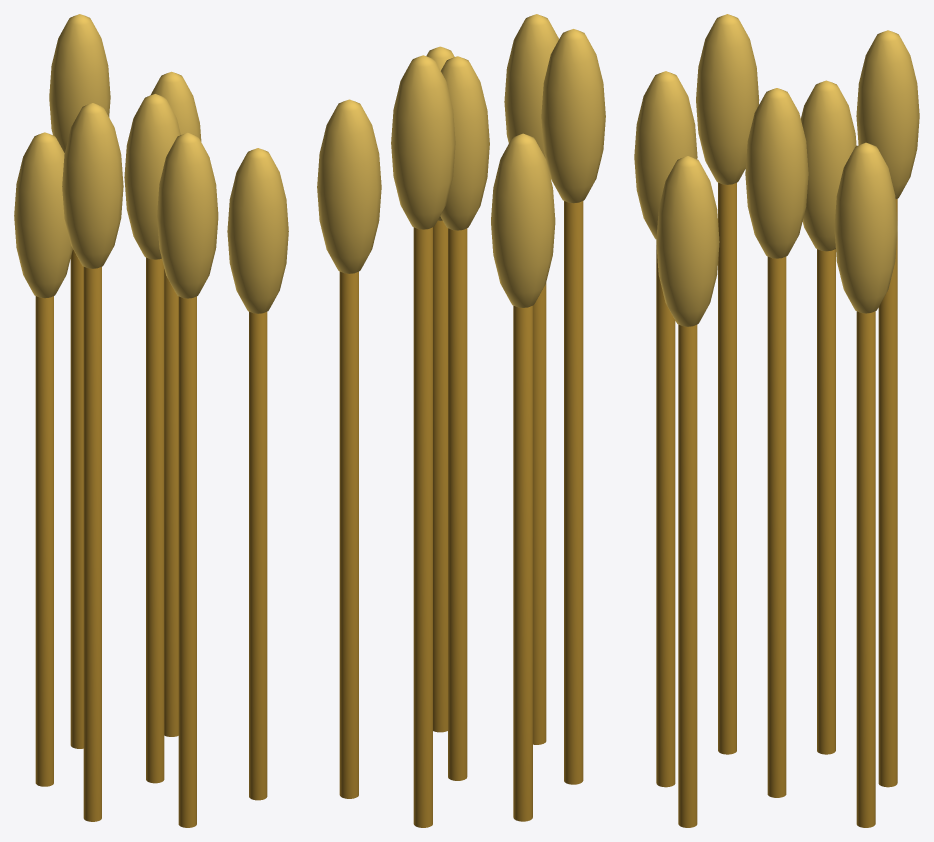
The model's file is wheat.glb.
3 views of the same model, side by side, from view 1: azimuth 30°, elevation 25°; view 2: azimuth 150°, elevation 25°; view 3: azimuth 270°, elevation 25° (orthographic). The views are drawn at different scales.
Parts seen in each view (by area): view 1: Wheat; view 2: Wheat; view 3: Wheat.
Boxes of the visible parts, x1,y1,x2,y2 form: Wheat: (14, 14, 288, 827); Wheat: (317, 14, 605, 827); Wheat: (634, 14, 919, 827).
Size of the model in its own units: 0.3744 by 1.31 by 0.451.
